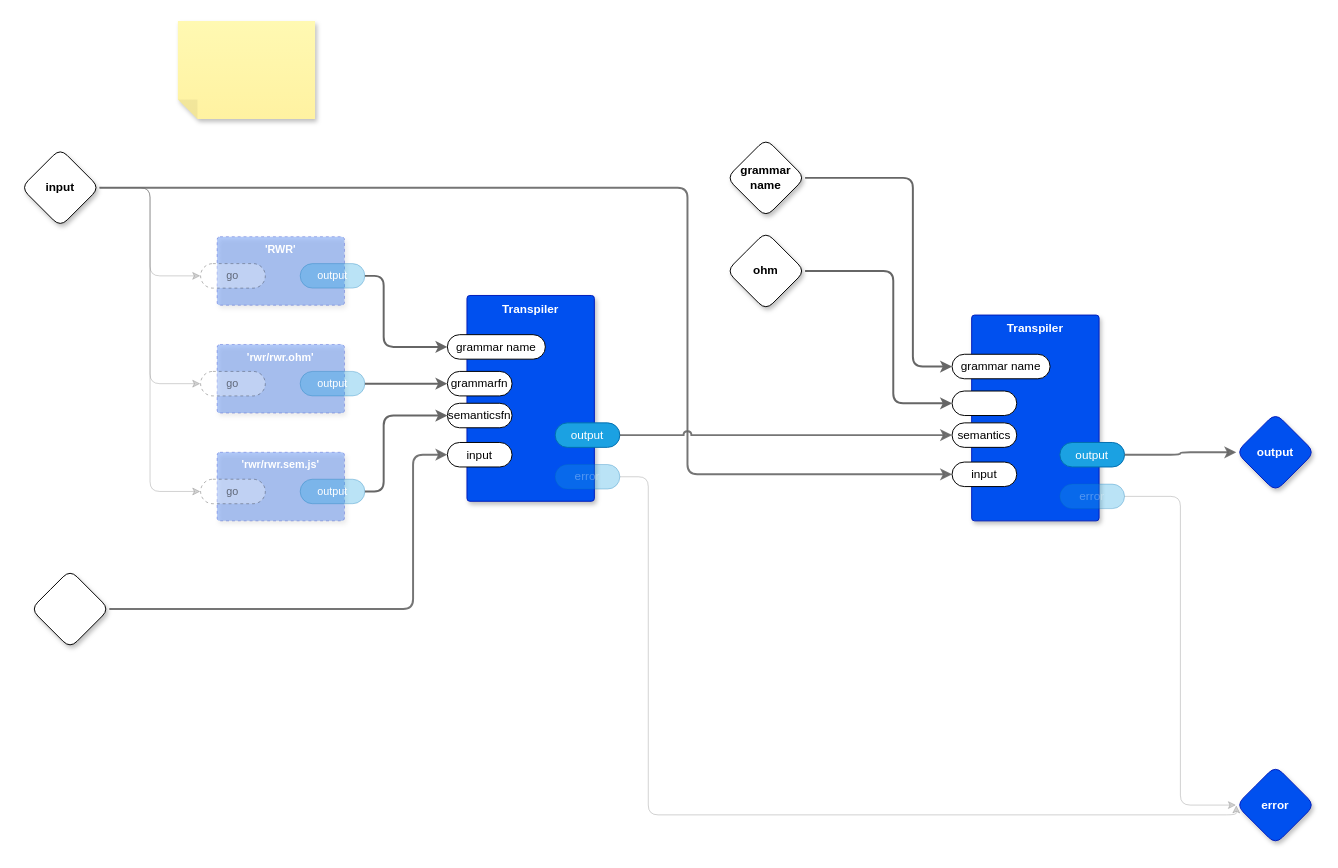
Image size: 1338x868. Some labels were removed from this diagram. The centre of each missing label's shape, as x and y in pixels:
"grammar" belongs at (x=984, y=403).
"rwr" belongs at (x=70, y=610).
"Same as Rewriter, but takes grammar and rwr source (not filenames)" belongs at (x=246, y=71).
